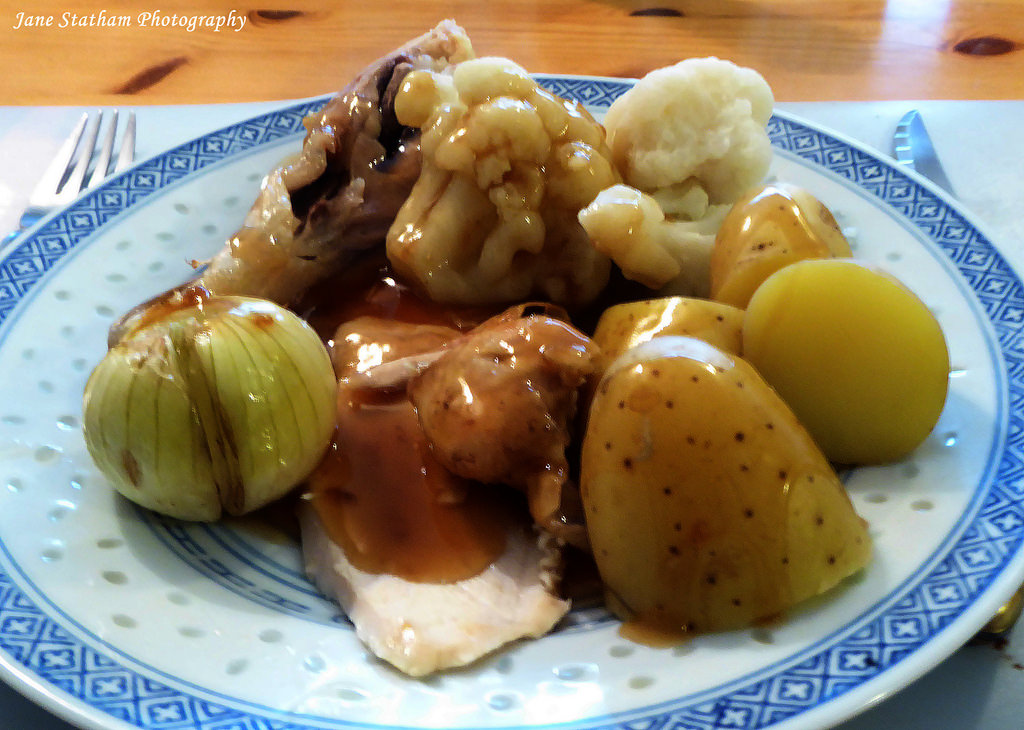boiled potatoes: (599, 316, 858, 575)
